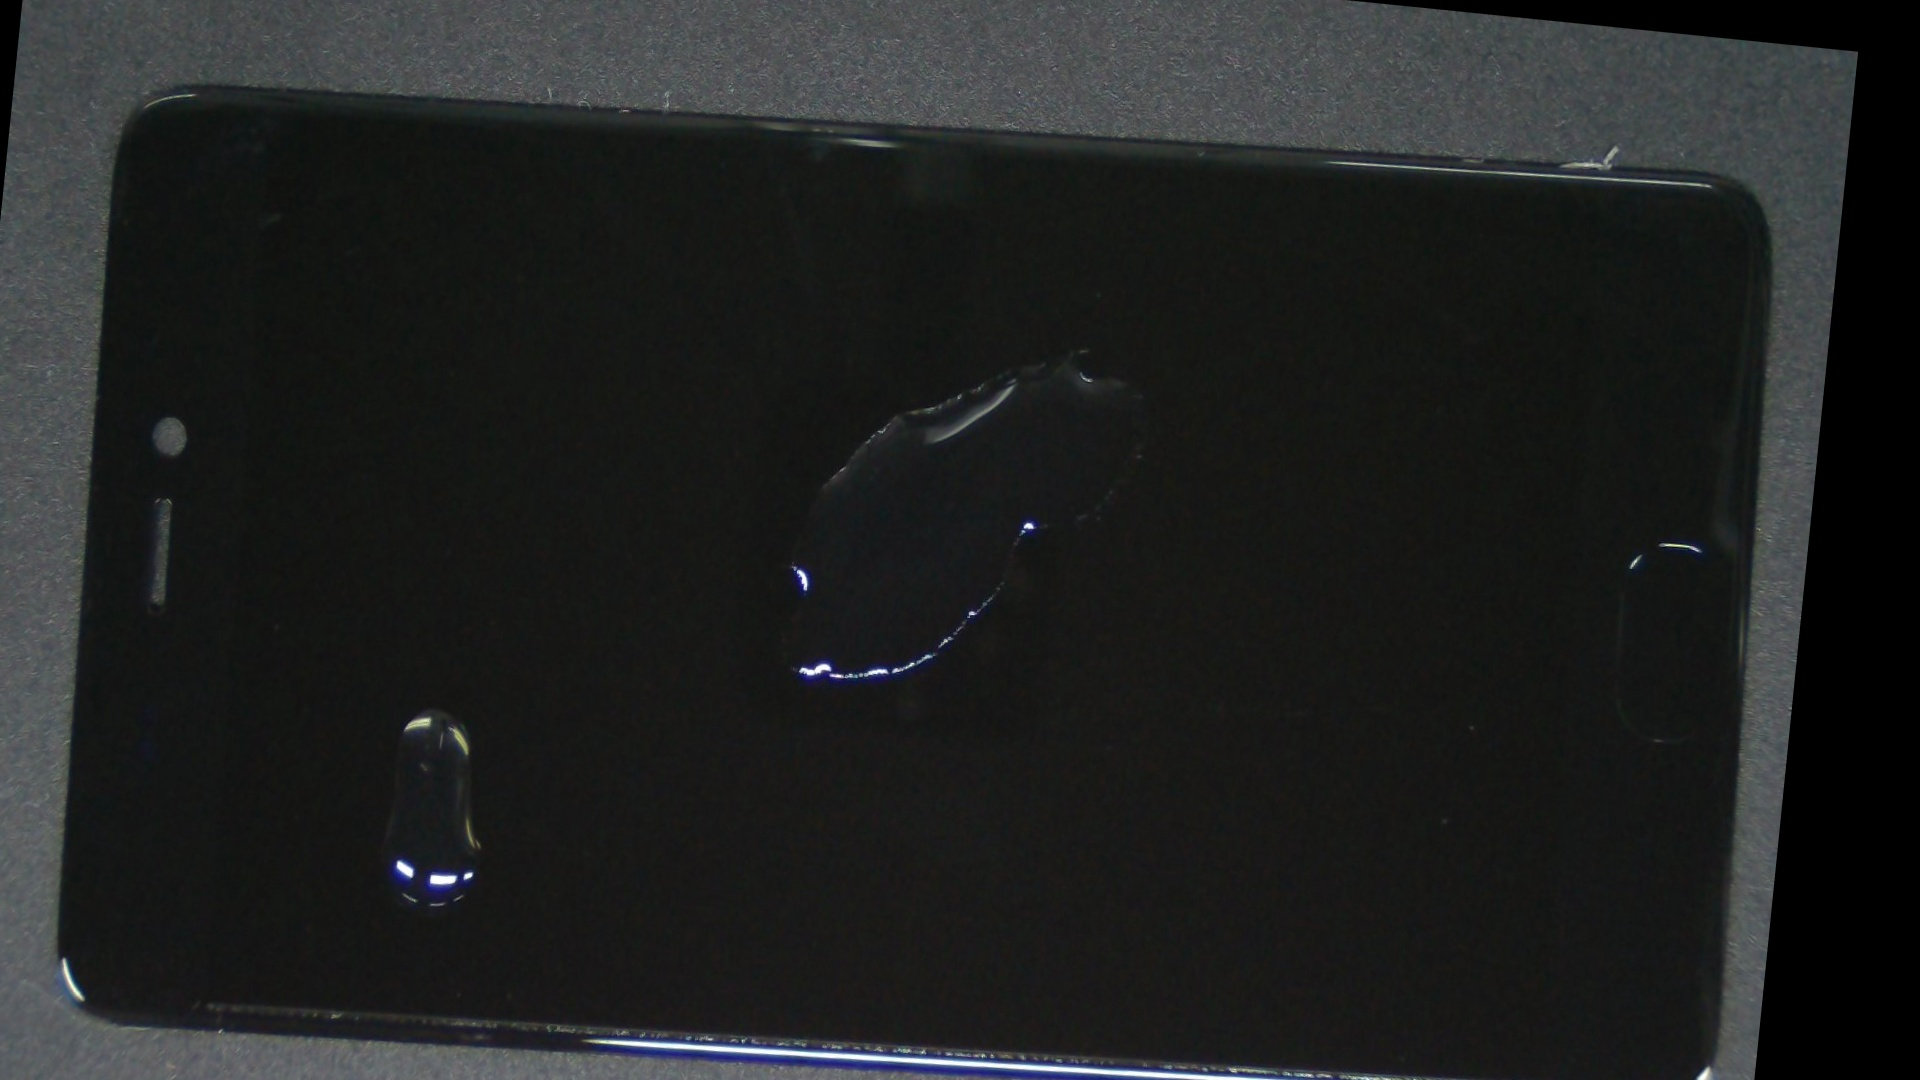oil: (522, 107, 1643, 588), (156, 287, 713, 1080)
